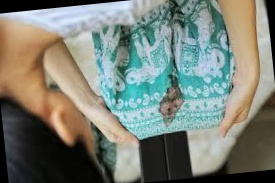blood: (156, 81, 187, 128)
